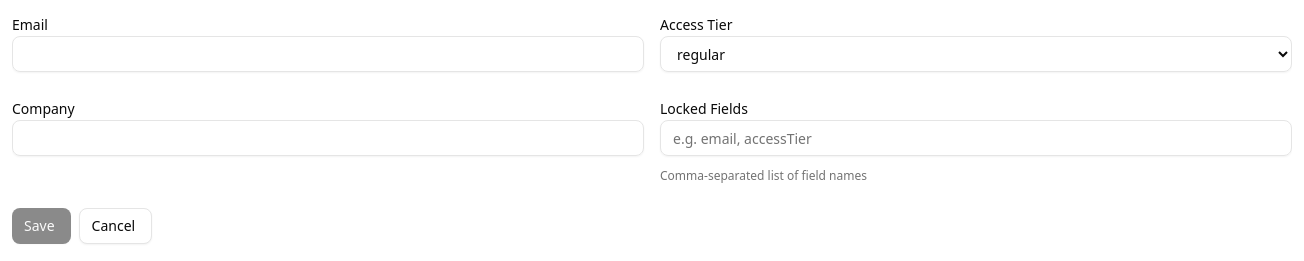
Test: WhitelistForm › submit button disabled state › enables the submit button when the email field has a valid value
Type "test@example.com" into the field labelled "Email".
click(328, 54); type("test@example.com")  # box [12,36,644,72]
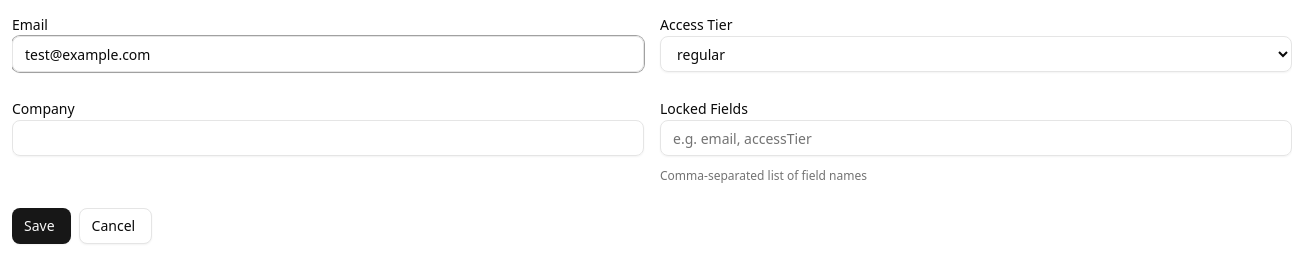
Expected: the button "Save" is enabled, [12,208,71,244]
